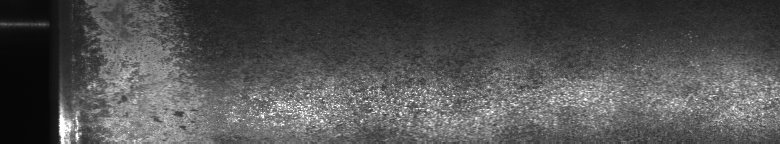kb: (72, 4, 776, 136)
